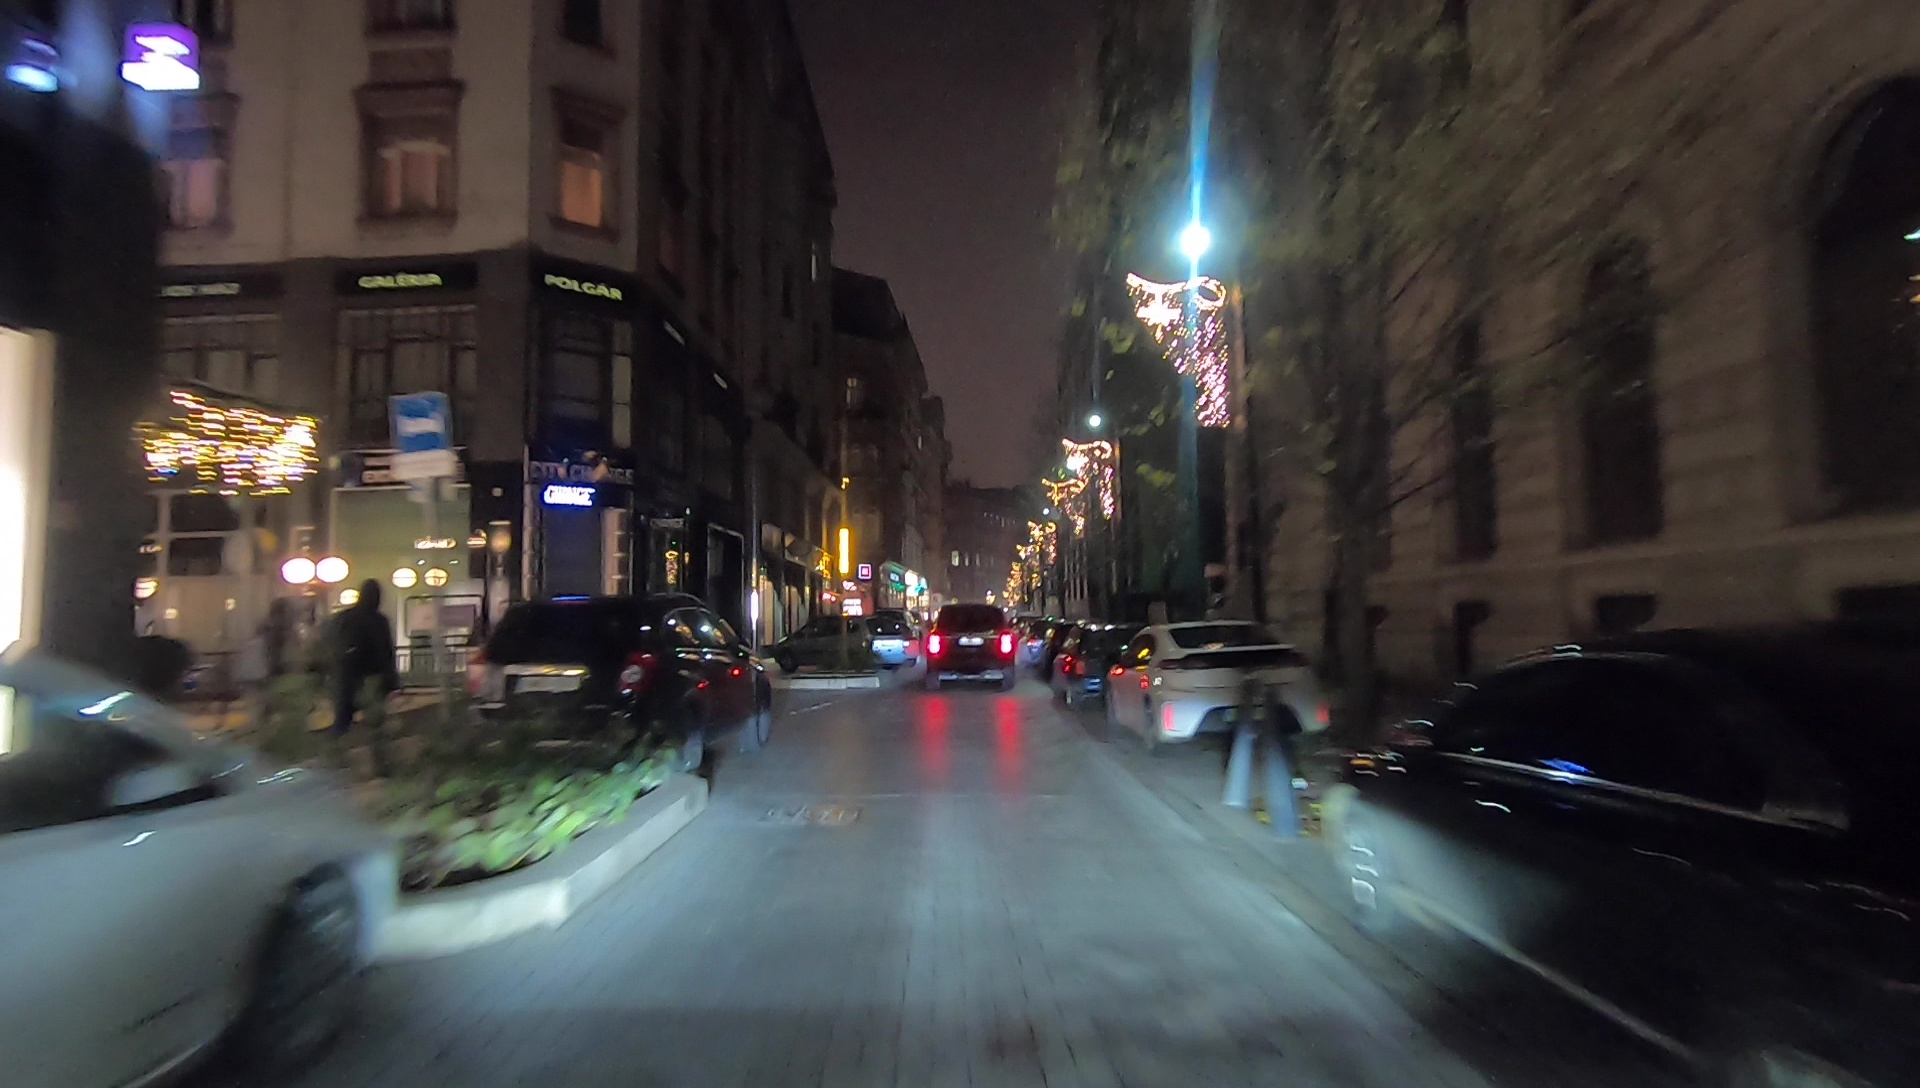person: (326, 578, 402, 761)
